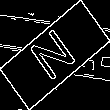N_SE: (27, 23, 83, 87)
